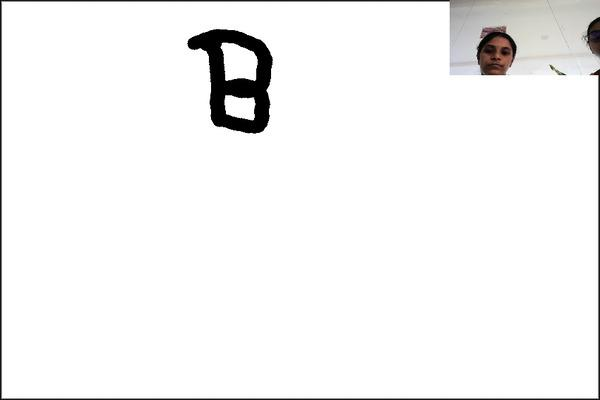B: (178, 18, 288, 142)
